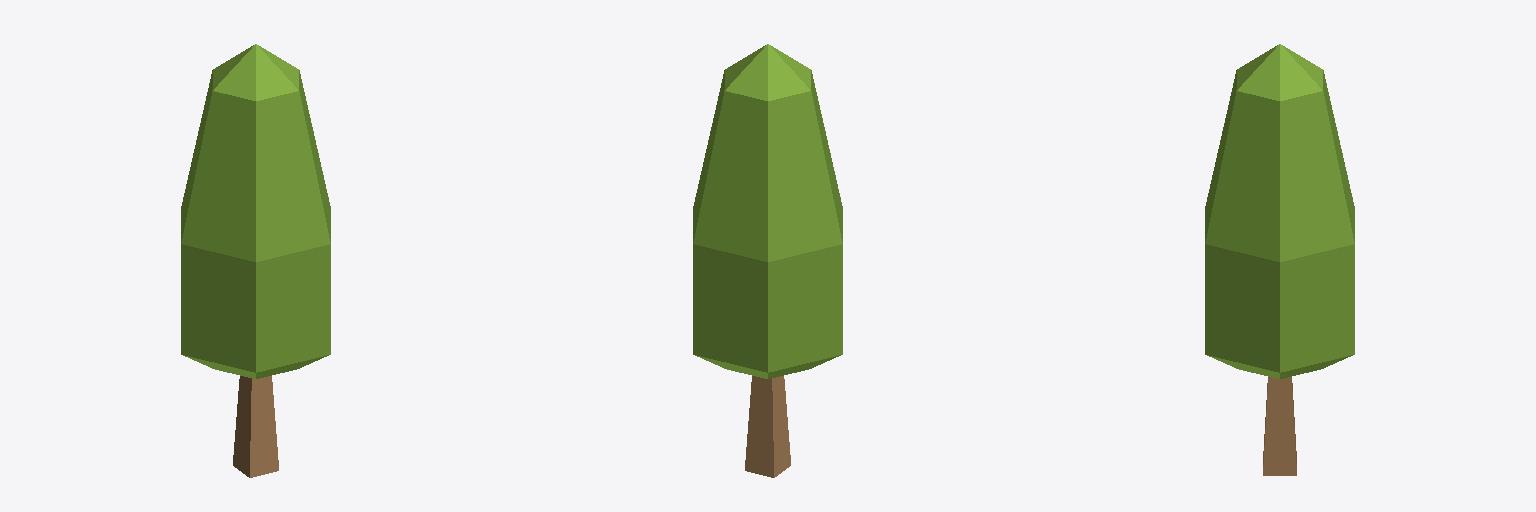
The model's file is roadTile_019.obj.
The picture shows the model from 3 angles: view 1: azimuth 30°, elevation 25°; view 2: azimuth 150°, elevation 25°; view 3: azimuth 270°, elevation 25°; orthographic projection.
Visible parts, largest first — view 1: Mesh1_Group1_Model.003; view 2: Mesh1_Group1_Model.003; view 3: Mesh1_Group1_Model.003.
Part boxes in pixels (left/top/right/bottom): Mesh1_Group1_Model.003: left=181, top=44, right=330, bottom=477; Mesh1_Group1_Model.003: left=693, top=44, right=842, bottom=477; Mesh1_Group1_Model.003: left=1205, top=44, right=1354, bottom=475.
Bounding box in the file's own units: 0.3361 × 0.9111 × 0.2911.